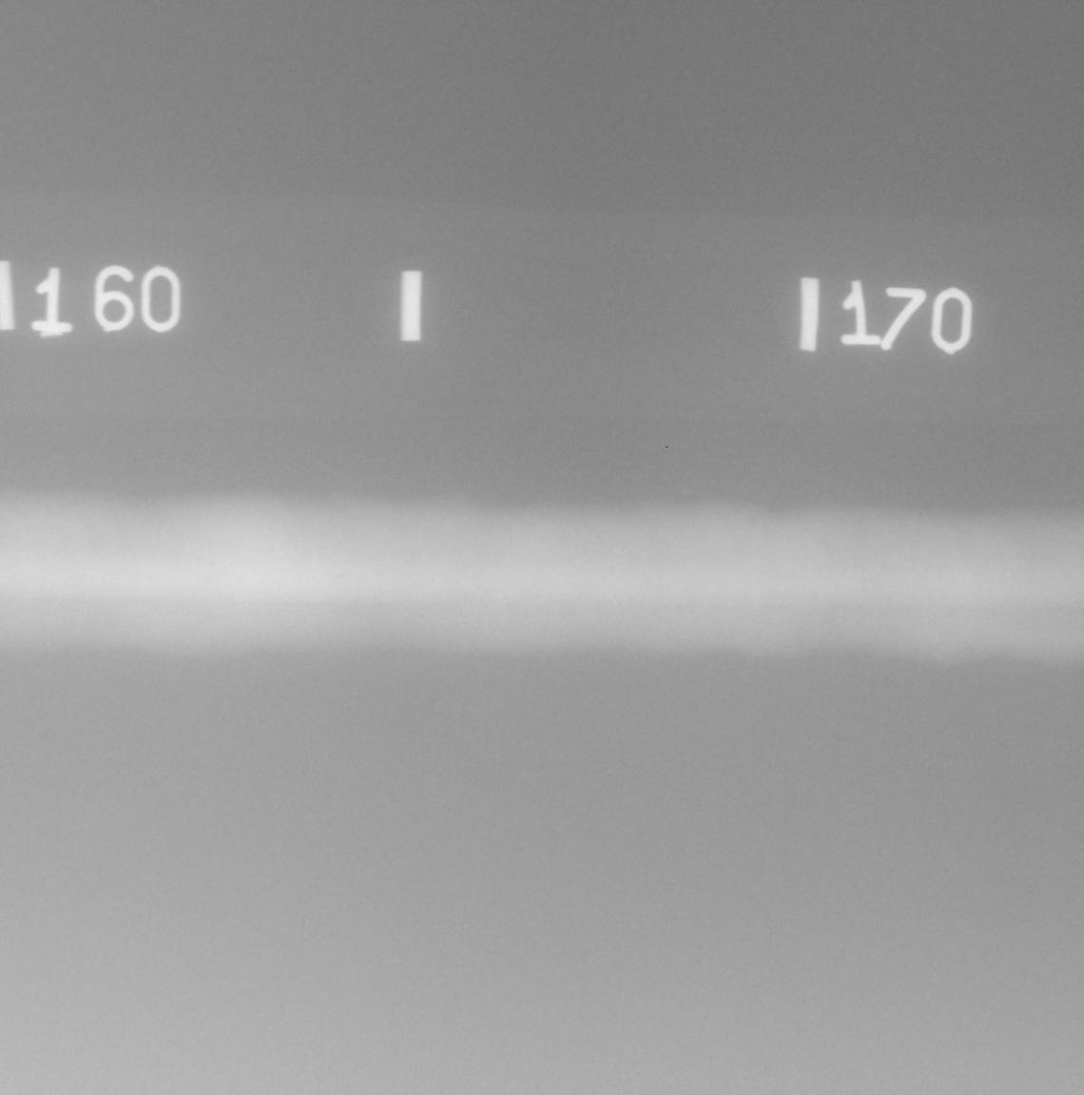Pore/Porosity: (339, 575, 343, 577)
